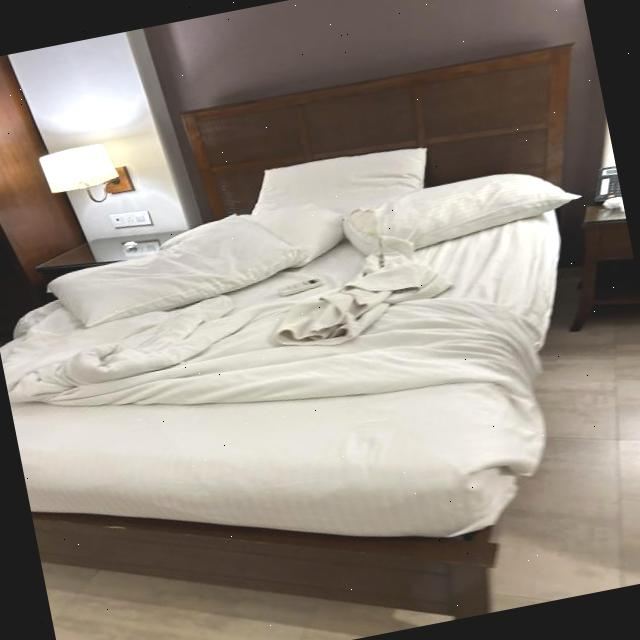Disorganized_pillow: (46, 146, 575, 329)
lamp: (37, 136, 124, 222)
mess: (11, 240, 529, 399)
messy_bed: (4, 41, 576, 618)
